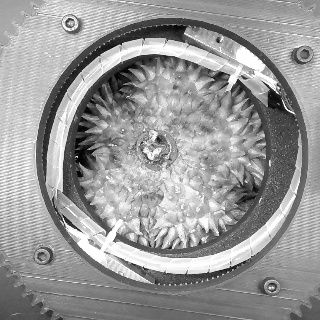base: (127, 138, 183, 175)
end: (139, 134, 171, 163)
